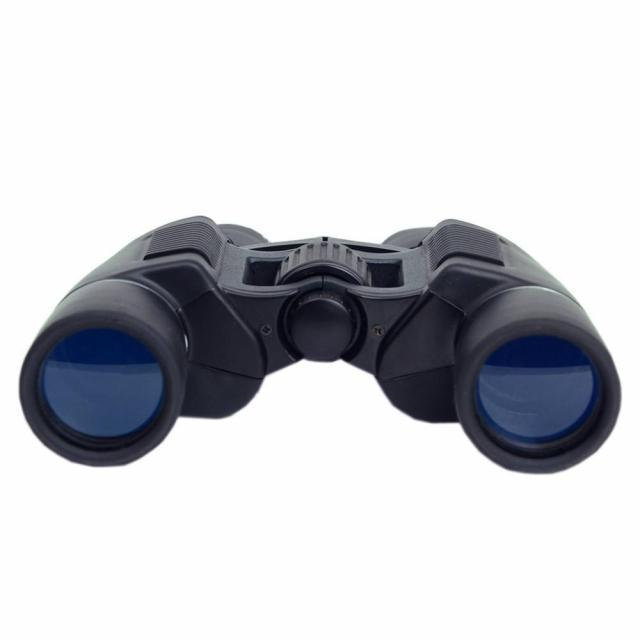Binocular: (13, 194, 628, 478)
